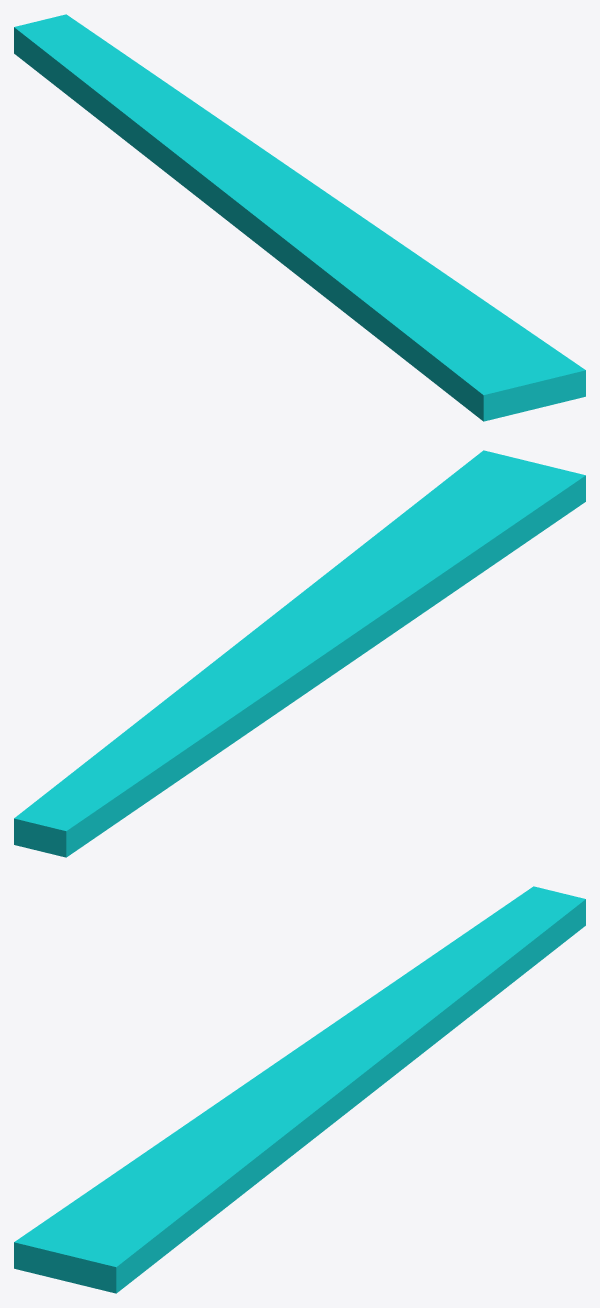
Rendered from bullet.fbx.
3 views of the same model, one above another, from view 1: azimuth 30°, elevation 25°; view 2: azimuth 150°, elevation 25°; view 3: azimuth 330°, elevation 25° (orthographic).
Parts seen in each view (by area): view 1: Cube; view 2: Cube; view 3: Cube.
Boxes of the visible parts, bbox=[...] form: Cube: bbox=[14, 14, 585, 421]; Cube: bbox=[14, 450, 585, 857]; Cube: bbox=[14, 886, 585, 1293].
Bounding box in the file's own units: 80.55 × 19.87 × 674.
